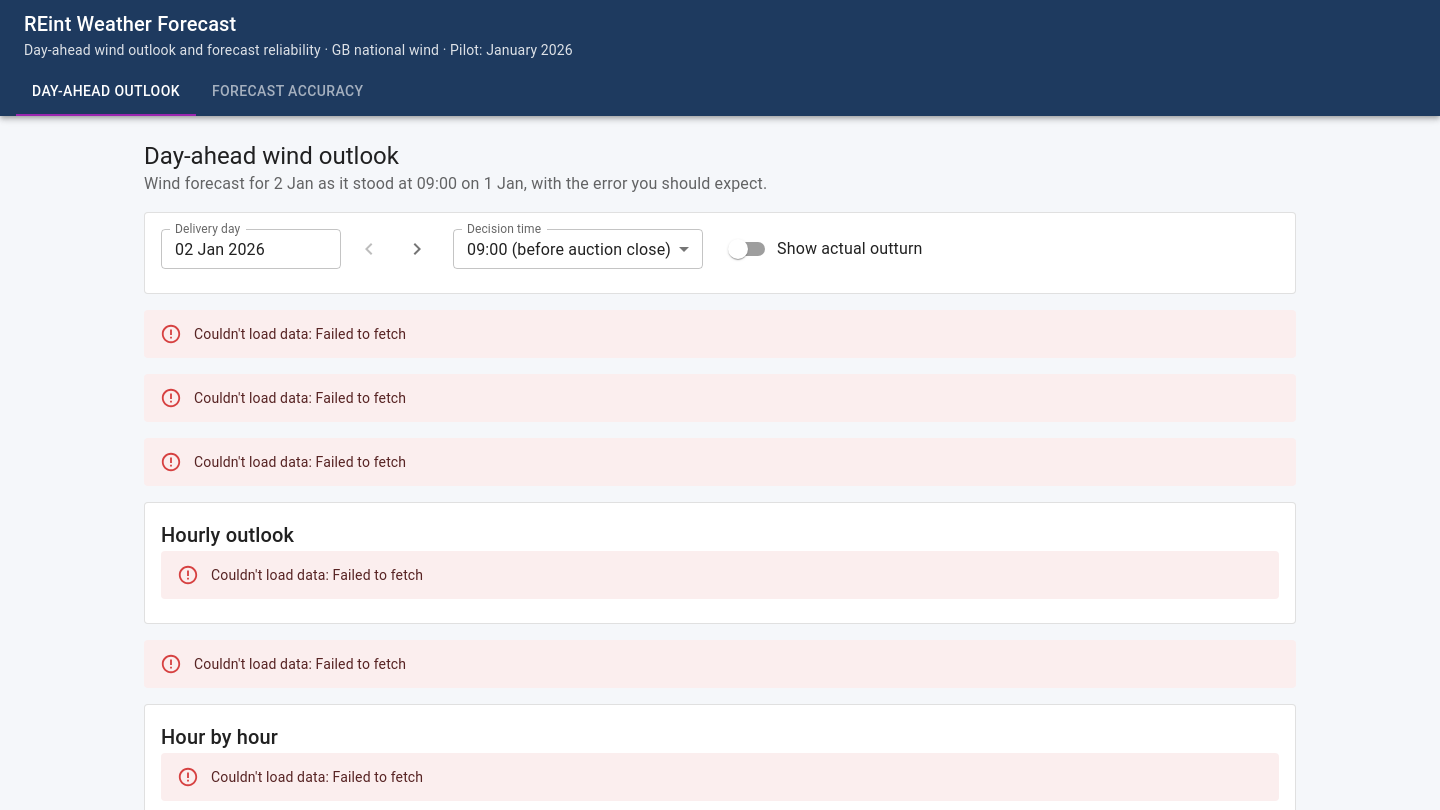
Test: Data service down (AC12, SC-005) › keeps the shell and shows an error in every data area on both tabs
Check: the heading "REint Weather Forecast" is shown, box [24,8,236,40]
Check: the text "Couldn't load data: Failed to fetch" is shown 6 times, box [194,326,406,342]; [194,390,406,406]; [194,454,406,470]; [211,567,423,583]; [194,656,406,672]; [211,769,423,785]
Step 1. Click the tab "Forecast accuracy" → click(288, 92), box [196,68,379,116]
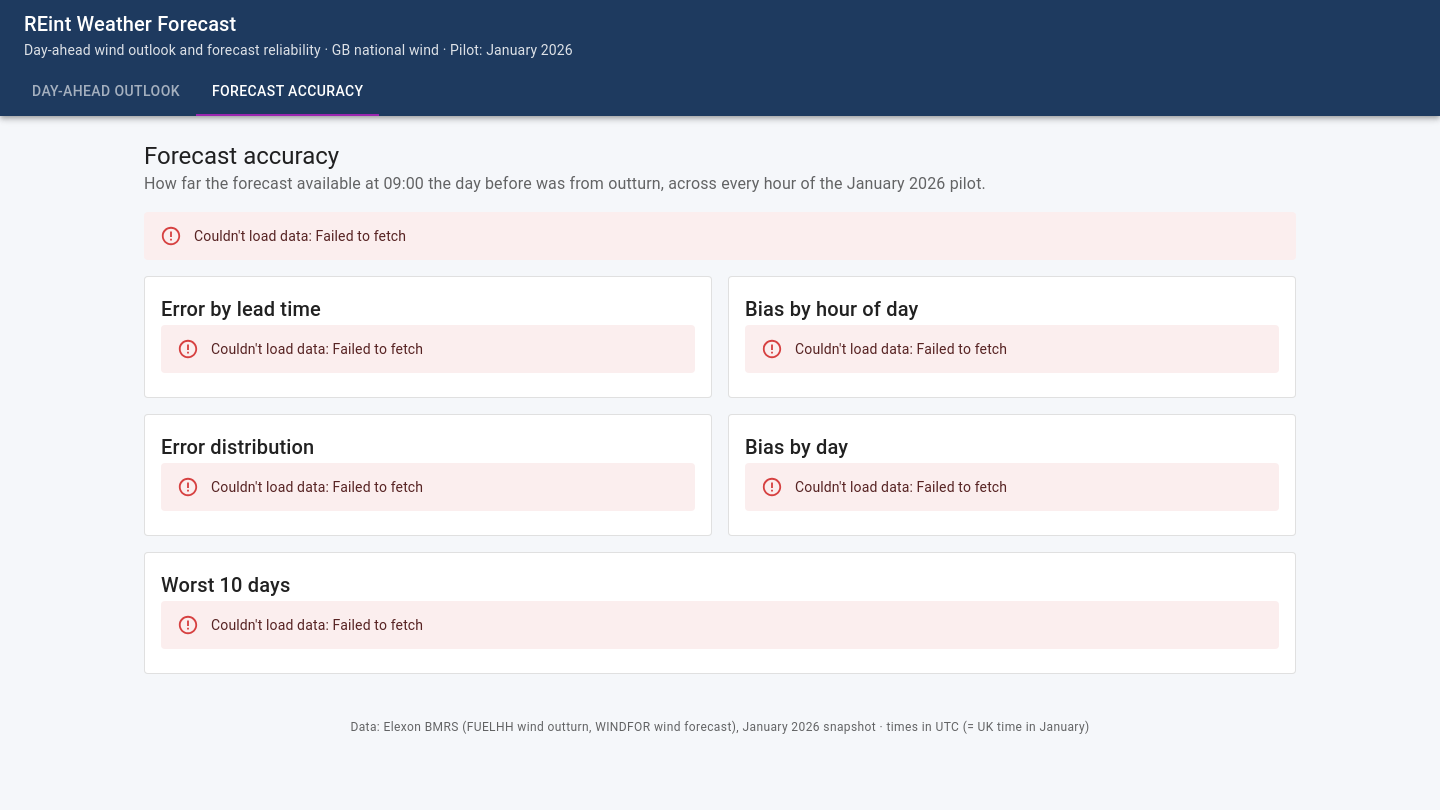
Check: the text "Couldn't load data: Failed to fetch" is shown 6 times, box [194,228,406,244]; [211,341,423,357]; [795,341,1007,357]; [211,479,423,495]; [795,479,1007,495]; [211,617,423,633]
Check: the heading "Forecast accuracy" is shown, box [144,142,339,170]
